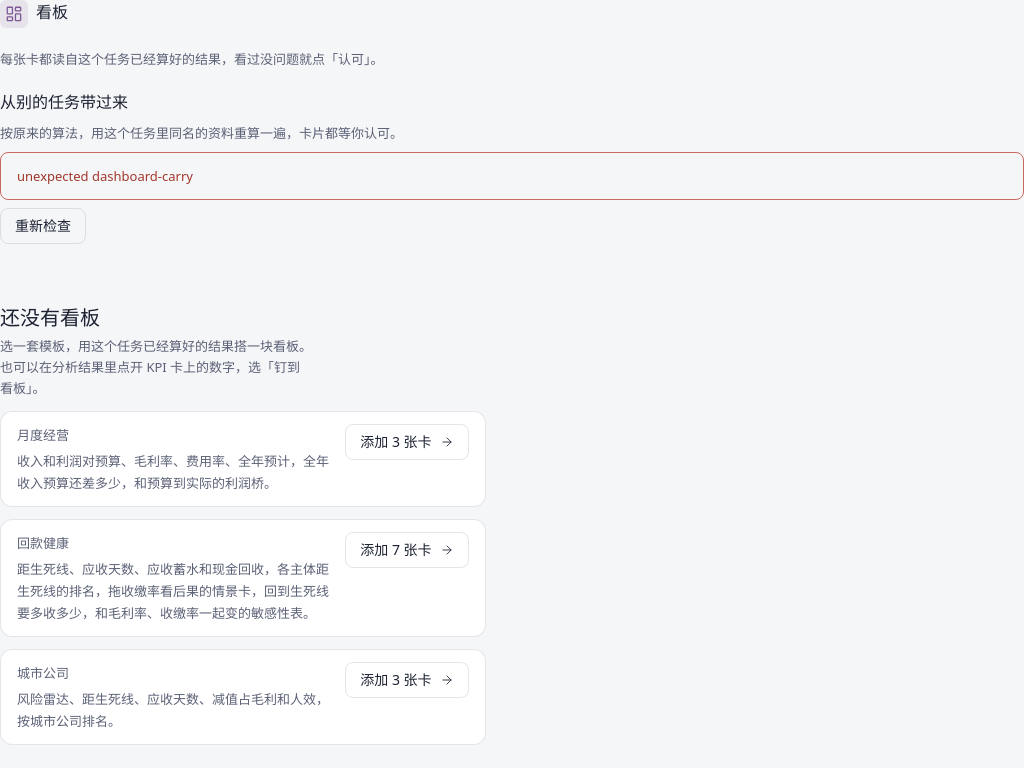
the board › starts from a template and saves its cards as waiting for the manager
This screenshot has width=1024, height=768.
Expected: the heading "还没有看板" is shown, [0, 304, 100, 331]
Step 1. Click the button "添加 7 张卡" → (407, 550), box [345, 532, 469, 568]
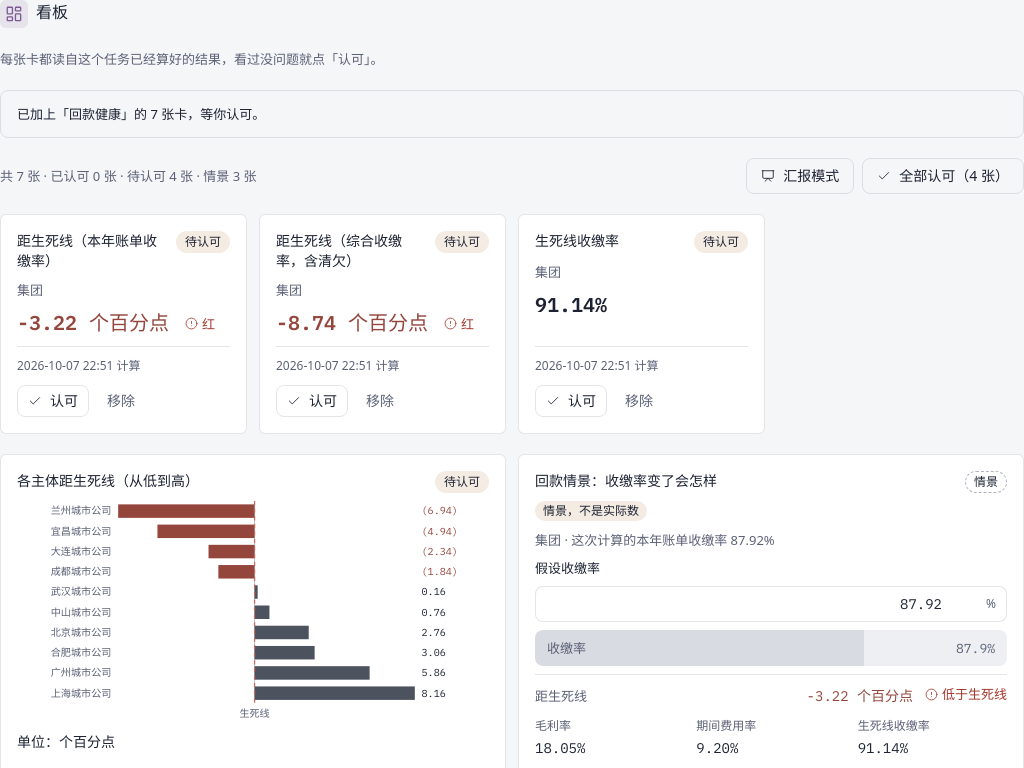
Expected: the text "共 7 张 · 已认可 0 张 · 待认可 4 张 · 情景 3 张" is shown, [0, 165, 256, 187]
Expected: the button with aria-label "查看来源" is shown, [17, 309, 169, 337]
Expected: the 1st text "红" is shown, [185, 310, 215, 338]
